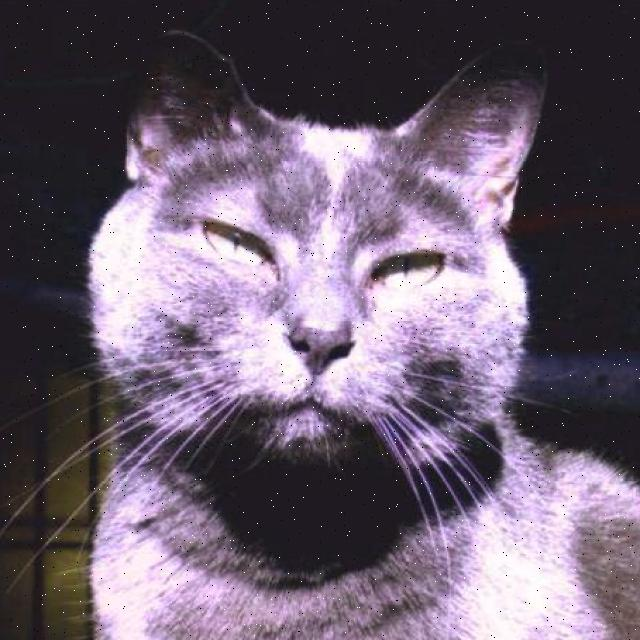Cat: (55, 44, 552, 515)
